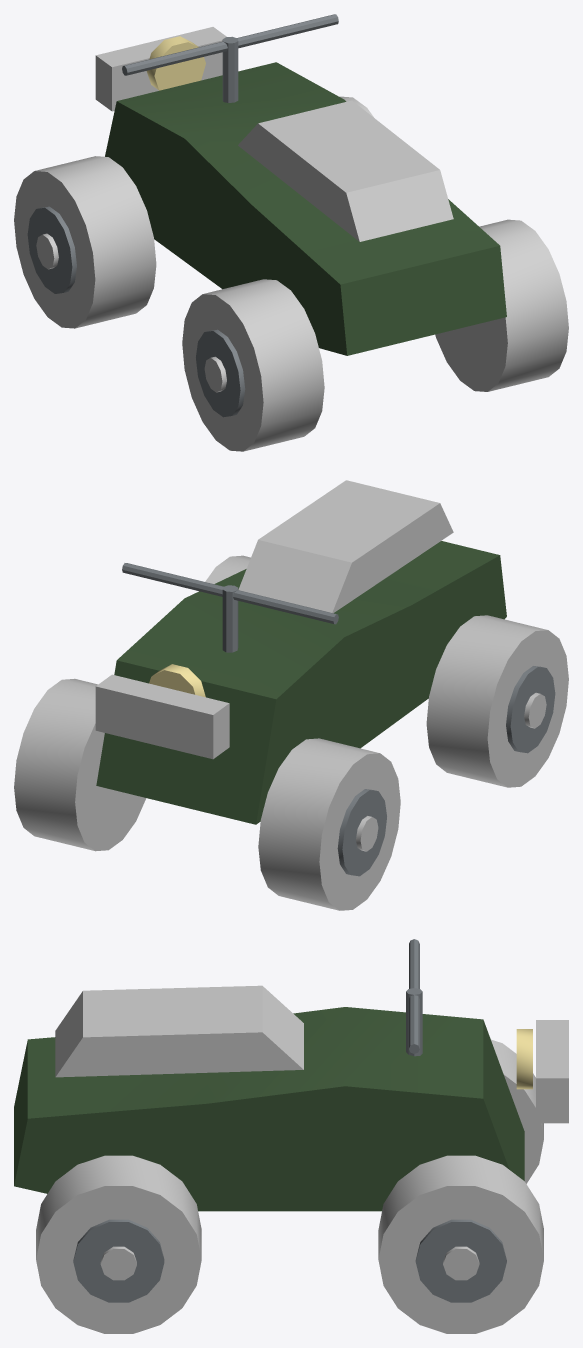
File: bobcat.obj
The picture shows the model from 3 angles, top to bottom: view 1: azimuth 30°, elevation 25°; view 2: azimuth 150°, elevation 25°; view 3: azimuth 270°, elevation 25°; orthographic projection.
Parts seen in each view (by area): view 1: model; view 2: model; view 3: model.
Boxes of the visible parts, x1,y1,x2,y2 form: model: (14, 14, 568, 451); model: (14, 480, 568, 910); model: (14, 939, 568, 1333).
Size of the model in its own units: 1.38 by 1.07 by 2.01.
